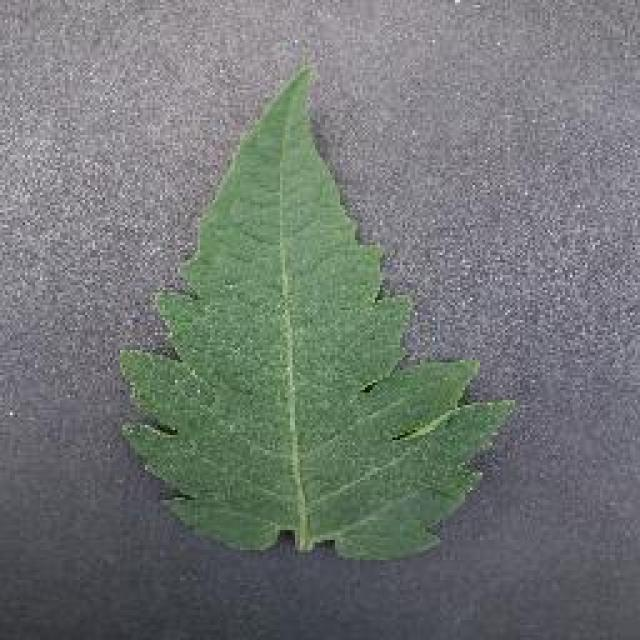Tomato healthy leaf: (125, 69, 507, 564)
